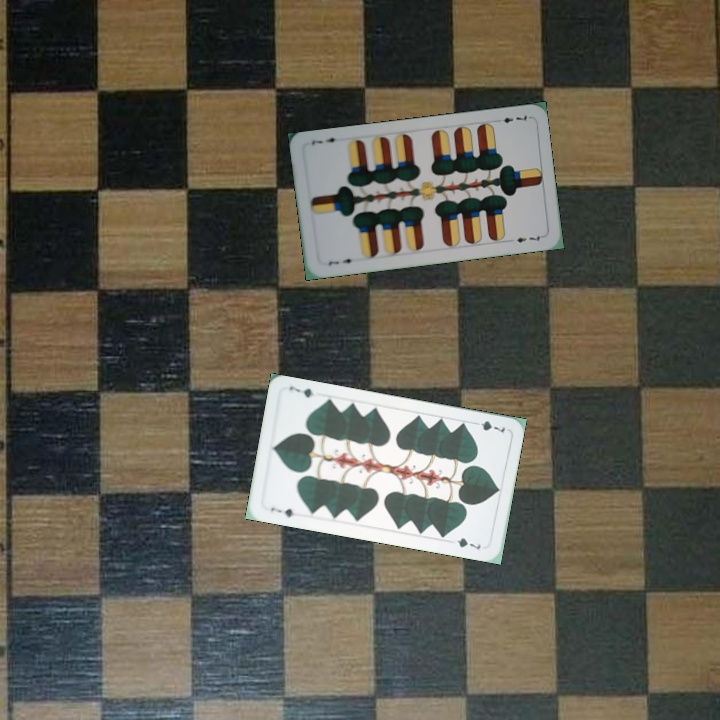E7: (491, 111, 531, 126), (324, 254, 359, 268)
G7: (468, 417, 507, 437), (267, 503, 297, 520)
